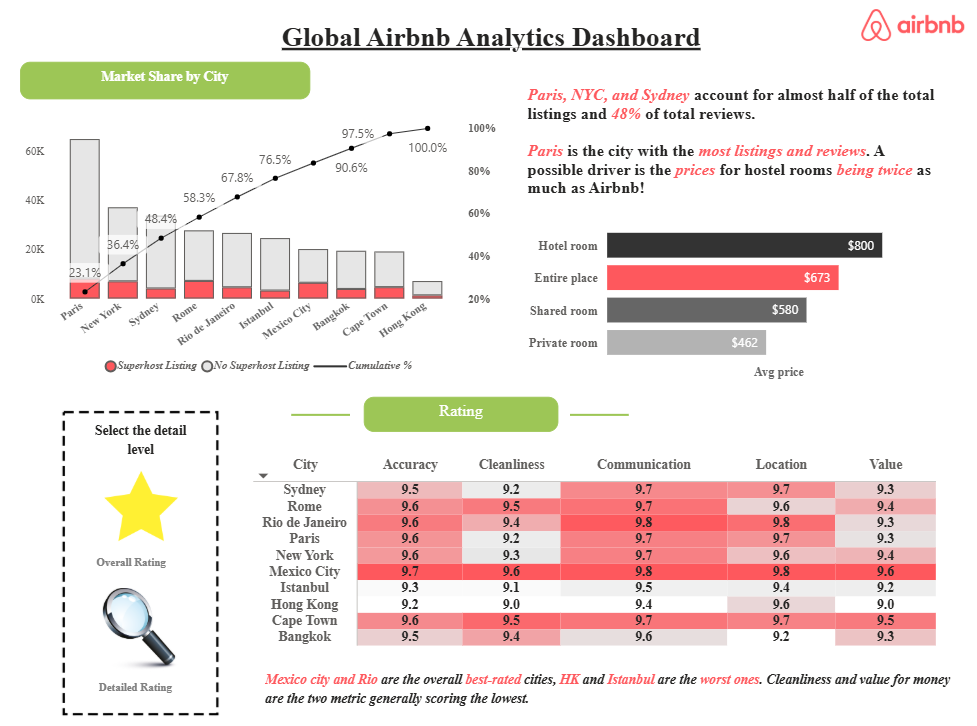

What the dashboard file says about the page in this screenshot:
{"tool":"powerbi","page":{"name":"Duplicate of Overview","canvas":[960,720],"ordinal":1},"visuals":[{"type":"textbox","box":[254.3,23.2,452.4,62.4],"z":0},{"type":"image","box":[91.7,463.5,92.9,77],"z":0,"group":"g2"},{"type":"image","box":[84.4,582.1,101.5,81.9],"z":0,"group":"g1"},{"type":"image","box":[842.5,8,101.1,46],"z":1000},{"type":"textbox","box":[89.3,541.8,97.8,28.1],"z":1000,"group":"g2"},{"type":"textbox","box":[91.7,664,86.8,29.3],"z":1000,"group":"g1"},{"type":"textbox","box":[19.6,67.3,283.7,36.7],"z":2000},{"type":"textbox","box":[254.3,657.2,681.3,52.2],"z":3000},{"type":"lineStackedColumnComboChart","fields":{"Category":["Listings.city"],"Y":["Listings.Superhost Listing","Listings.No Superhost Listing"],"Y2":["Listings.Cumulative %"]},"box":[19.6,116.2,470.8,266.6],"z":4000},{"type":"barChart","fields":{"Category":["Listings.room_type"],"Y":["Listings.Avg price"]},"box":[511.1,209.1,424.3,173.6],"z":5000},{"type":"textbox","box":[511.1,85.6,414.5,123.5],"z":6000},{"type":"textbox","box":[355.8,395,190.8,34.2],"z":8000},{"type":"shape","box":[284.9,337.5,57.5,150.4],"z":9000},{"type":"shape","box":[557.6,337.5,57.5,150.4],"z":10000},{"type":"textbox","box":[74.6,413.3,126,50.1],"z":10500},{"type":"image","box":[20.8,395,233.6,325.3],"z":11000},{"type":"pivotTable","fields":{"Rows":["Listings.city"],"Values":["Listings.Avg accuracy","Listings.Avg cleanliness","Listings.Avg communication","Listings.Avg Location","Listings.Avg Value"]},"box":[244.6,451.2,681.1,206.7],"z":12000},{"type":"group","id":"g1","title":"Group 2","box":[84.4,582.1,101.5,111.3],"z":13500},{"type":"group","id":"g2","title":"Group 1","box":[89.3,463.5,97.8,106.4],"z":14000}]}

Visuals, with their boxes in screenshot pixels (x1, y1, x2, y2), scaled from the page's 960x720 canvas onto the 977x726 screenshot:
textbox: bbox=[259, 23, 719, 86]
image: bbox=[93, 467, 188, 545]
image: bbox=[86, 587, 189, 670]
image: bbox=[857, 8, 960, 54]
textbox: bbox=[91, 546, 190, 575]
textbox: bbox=[93, 670, 182, 699]
textbox: bbox=[20, 68, 309, 105]
textbox: bbox=[259, 663, 952, 715]
lineStackedColumnComboChart - Listings.city x Listings.Superhost Listing: bbox=[20, 117, 499, 386]
barChart - Listings.room_type x Listings.Avg price: bbox=[520, 211, 952, 386]
textbox: bbox=[520, 86, 942, 211]
textbox: bbox=[362, 398, 556, 433]
shape: bbox=[290, 340, 348, 492]
shape: bbox=[567, 340, 626, 492]
textbox: bbox=[76, 417, 204, 467]
image: bbox=[21, 398, 259, 725]
pivotTable - Listings.city x Listings.Avg accuracy: bbox=[249, 455, 942, 663]
"Group 2" group: bbox=[86, 587, 189, 699]
"Group 1" group: bbox=[91, 467, 190, 575]
